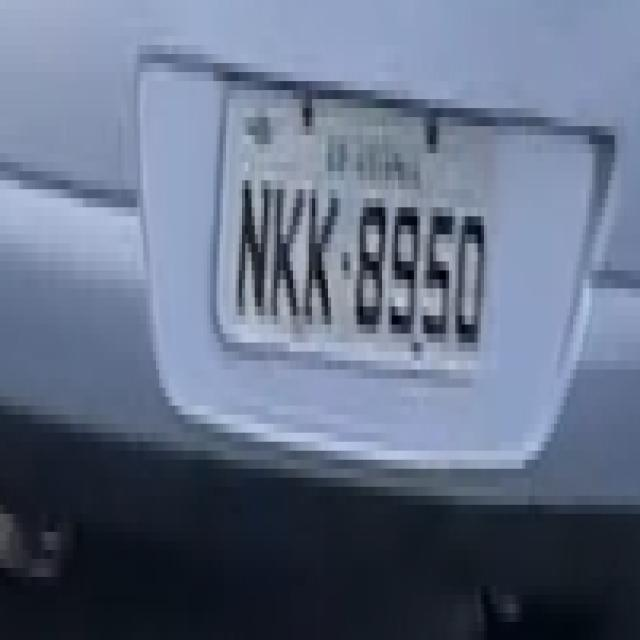Placa_mercosul_carro: (213, 83, 491, 381)
